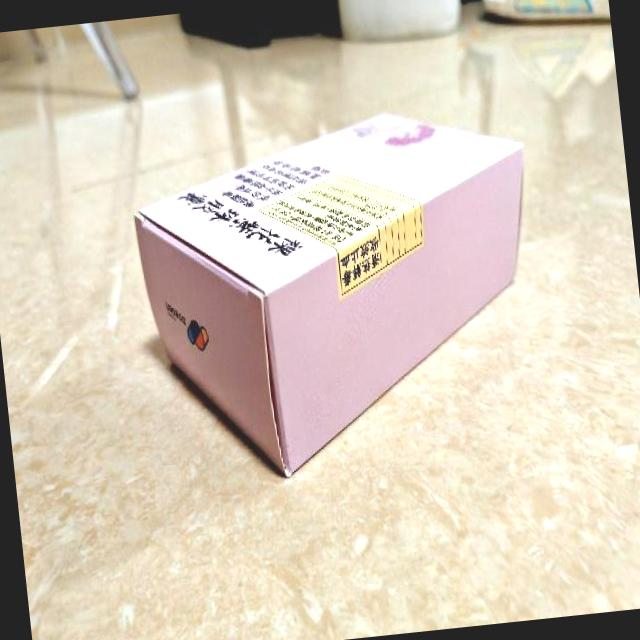box: (125, 99, 554, 492)
